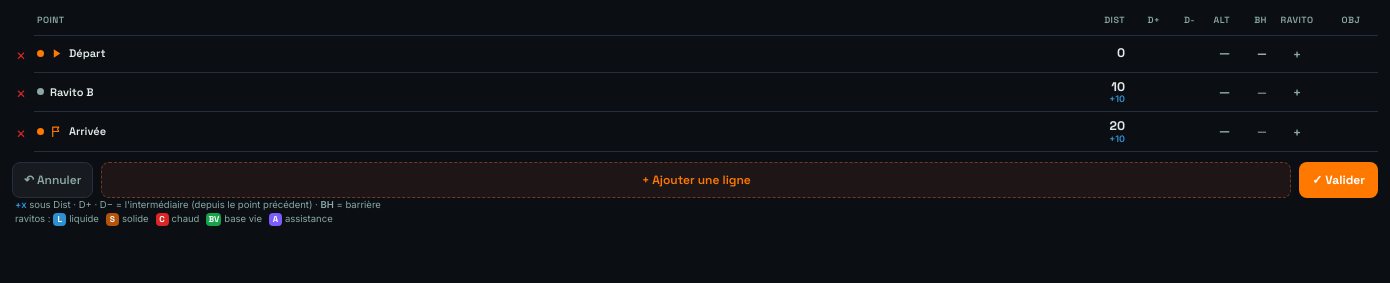
it: le km d’une ligne ajoutée se valide au blur (pas de commit pendant la frappe)
This screenshot has width=1390, height=283.
Click the button "+ Ajouter une ligne": [696, 180] box [101,162,1291,198]
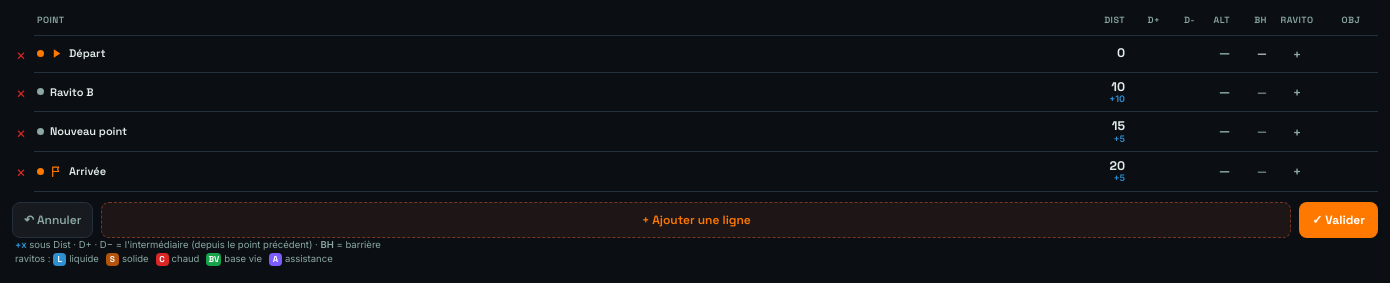
Check: the 3rd field showing "Nouveau point" is shown, box [50,125,1082,138]
// Frappe sans blur : le champ change mais le km n'est pas encore commité.
Replace the text in the 7th field showing "15" with "5": [1105, 126] box [1085,119,1125,134]
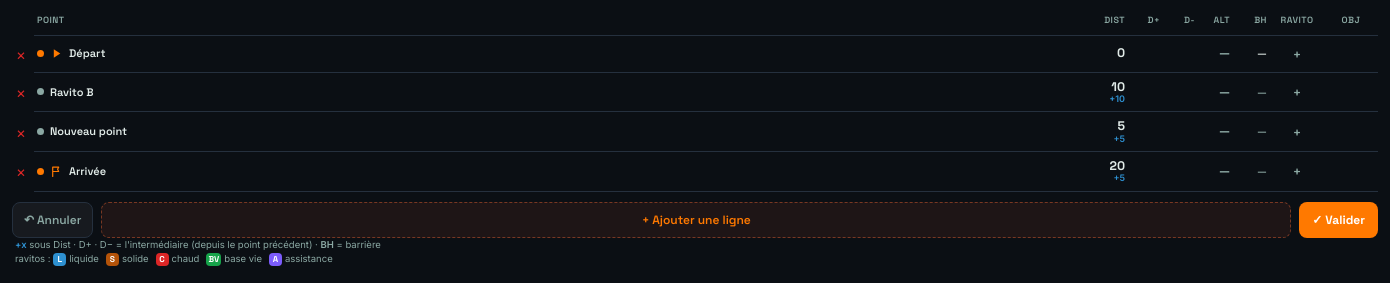
// Blur : commit + re-tri (la ligne se range entre Départ et Ravito B).
Leave the 7th field showing "15", box [1085,119,1125,134]
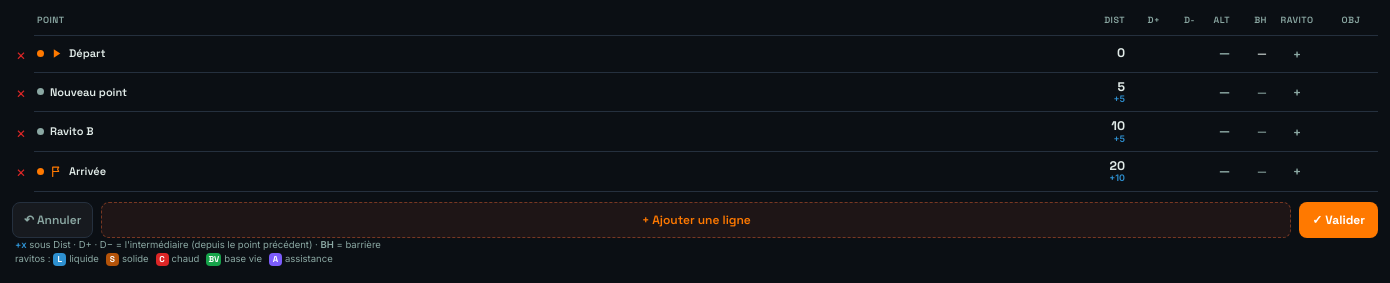
Check: the 4th field showing "5" is shown, box [1085,80,1125,94]
